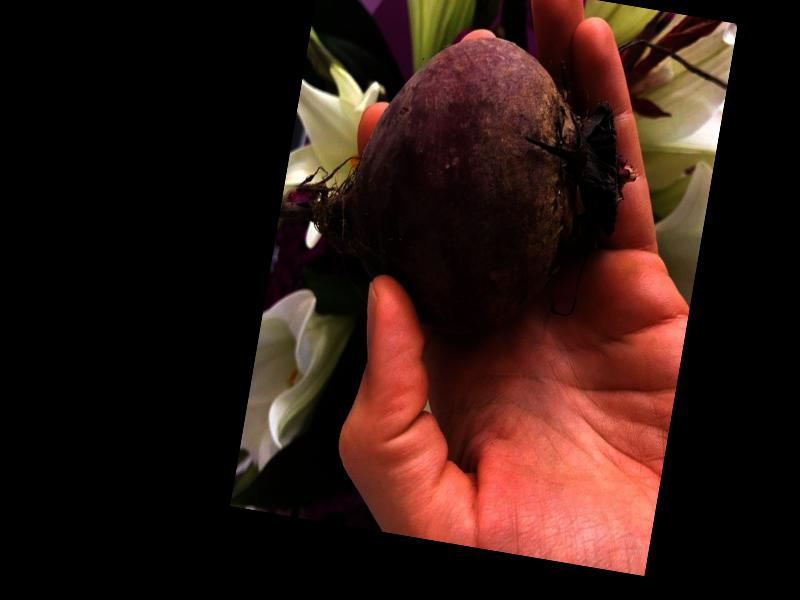Beet: (266, 5, 653, 358)
